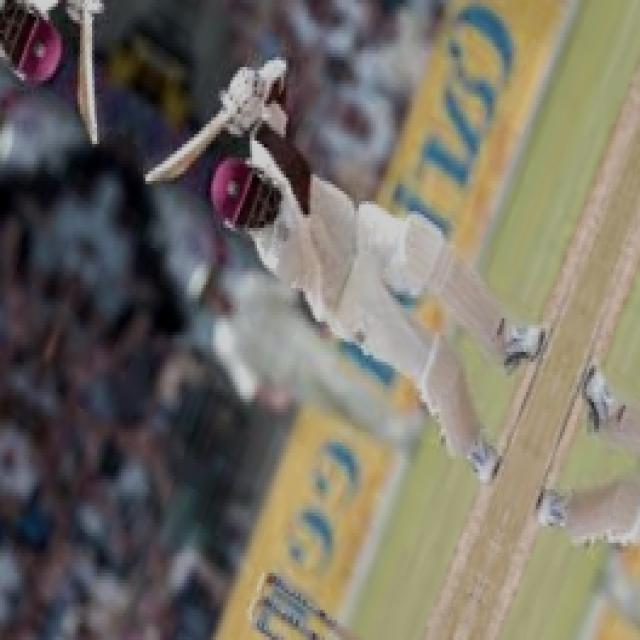bat: (137, 114, 244, 192)
